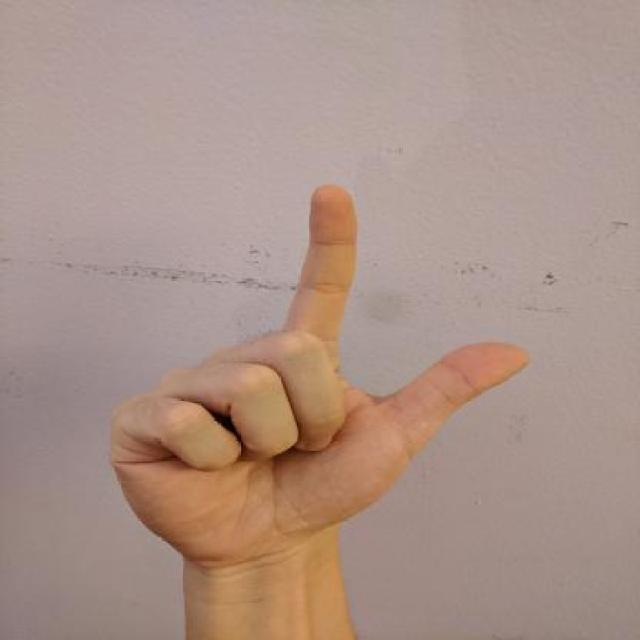L: (98, 174, 535, 595)
